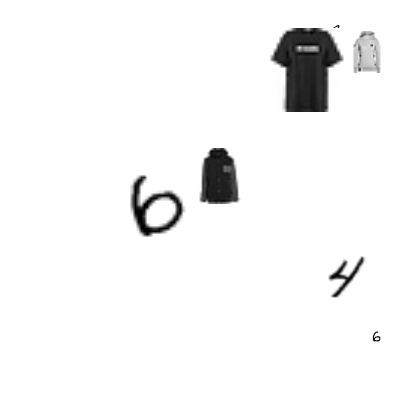4: (317, 247, 373, 303)
6: (110, 167, 194, 251), (369, 330, 383, 344)
7: (329, 22, 343, 36)
Coat: (192, 148, 248, 204)
Pullover: (346, 31, 388, 73)
T-shirt/top: (265, 28, 349, 112)
